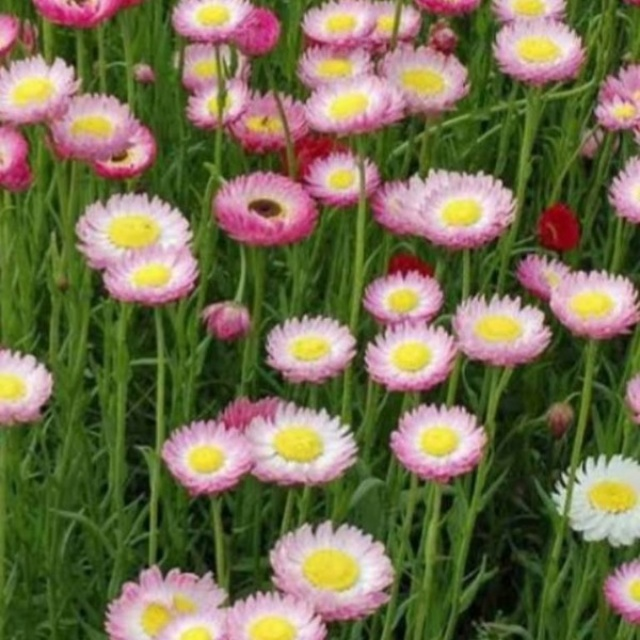obstacle: (27, 98, 587, 594)
